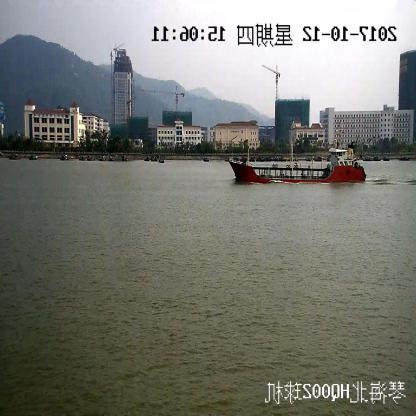Bulk Carrier: (230, 132, 366, 183)
